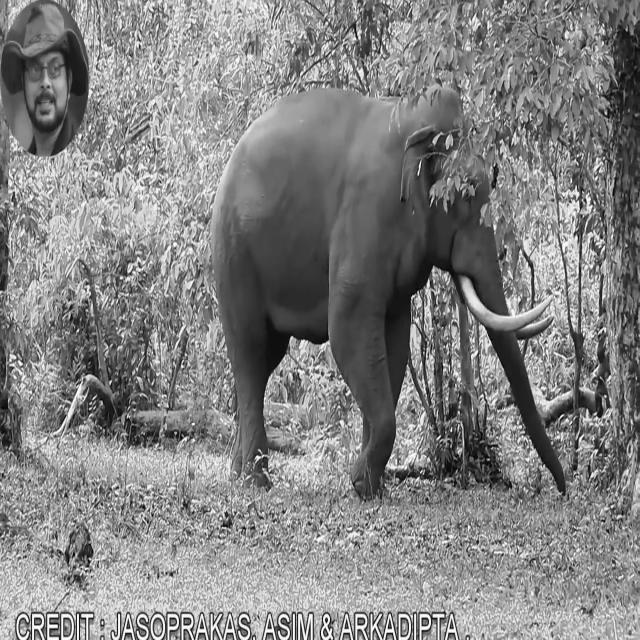ELEPHANT: (204, 86, 570, 498)
